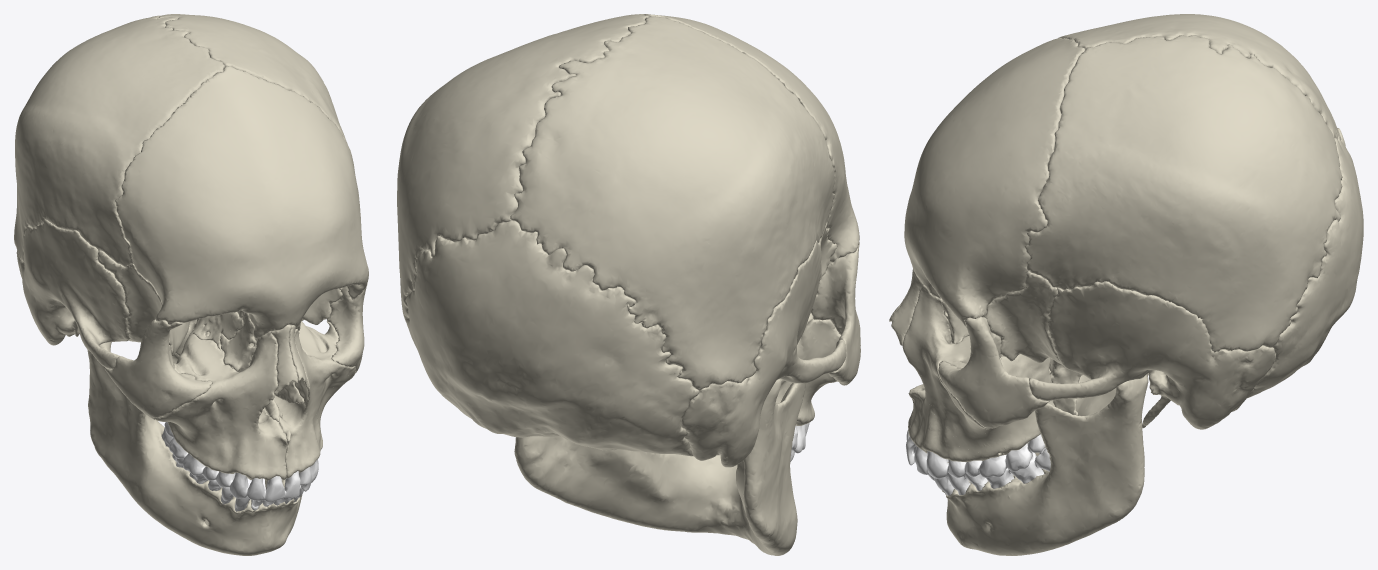
The model's file is SkullLow.glb.
3 renders of one model, left to right at view 1: azimuth 30°, elevation 25°; view 2: azimuth 150°, elevation 25°; view 3: azimuth 270°, elevation 25°, orthographic. The views are drawn at different scales.
Visible parts, largest first — view 1: Frontal, Right_Parietal, Mandible, Right_max, Right_temporal, Left_parietal, Left_maxilla (×2), Right_zygomatic, Sphenoid, Teeth, Left_zygomatic, Right_lacrimal (+4 smaller); view 2: Right_Parietal, Occipital, Left_parietal, Mandible, Right_temporal, Frontal, Right_zygomatic, Right_max; view 3: Left_parietal, Frontal, Mandible, Left_temporal, Left_maxilla (×2), Occipital, Right_Parietal, Left_zygomatic, Sphenoid, Teeth, Lower_teeth, Left_nasal.
Boxes of the visible parts, <box> form: Frontal: <box>115,66,368,340</box>; Right_Parietal: <box>14,15,225,267</box>; Mandible: <box>87,342,302,555</box>; Right_max: <box>155,331,287,480</box>; Right_temporal: <box>16,219,130,369</box>; Left_parietal: <box>157,14,347,144</box>; Left_maxilla (×2): <box>266,321,355,478</box>; Right_zygomatic: <box>103,319,212,419</box>; Sphenoid: <box>97,250,343,363</box>; Teeth: <box>164,422,318,501</box>; Left_zygomatic: <box>327,281,367,373</box>; Right_lacrimal: <box>220,312,256,372</box>; Right_Parietal: <box>510,16,835,390</box>; Occipital: <box>406,220,699,456</box>; Left_parietal: <box>397,14,648,321</box>; Mandible: <box>514,379,806,555</box>; Right_temporal: <box>681,240,846,467</box>; Frontal: <box>642,14,859,262</box>; Right_zygomatic: <box>811,242,860,385</box>; Right_max: <box>775,313,840,425</box>; Left_parietal: <box>1024,35,1342,352</box>; Frontal: <box>904,38,1085,327</box>; Mandible: <box>942,374,1148,555</box>; Left_temporal: <box>1029,281,1275,429</box>; Left_maxilla (×2): <box>902,285,1054,462</box>; Occipital: <box>1247,128,1363,398</box>; Right_Parietal: <box>1058,14,1341,140</box>; Left_zygomatic: <box>938,316,1049,428</box>; Sphenoid: <box>985,271,1082,415</box>; Teeth: <box>906,430,1045,478</box>; Lower_teeth: <box>928,447,1050,495</box>; Left_nasal: <box>889,271,923,345</box>.
Size of the model in its own units: 13.85 by 20.76 by 17.5.
